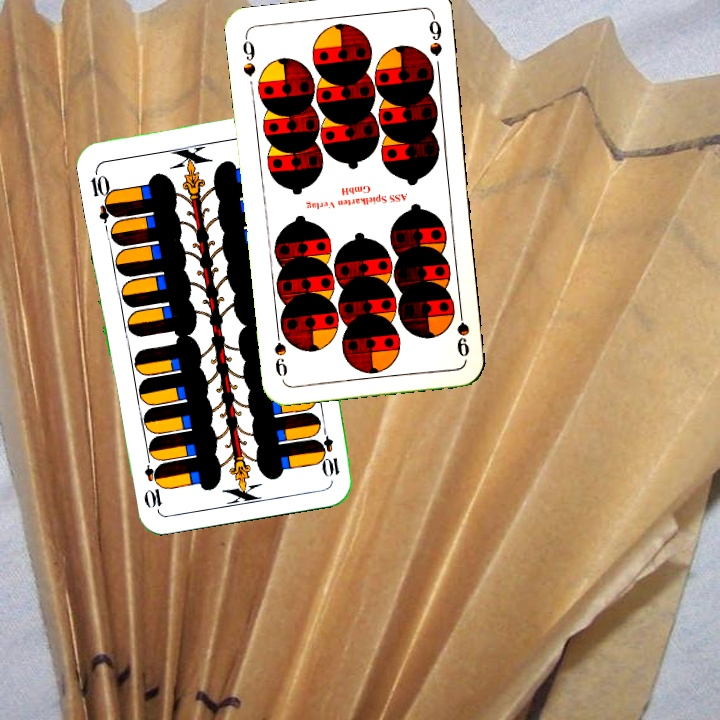E10: (86, 165, 119, 224), (315, 421, 343, 479)
S9: (452, 301, 472, 359), (238, 32, 258, 79)
